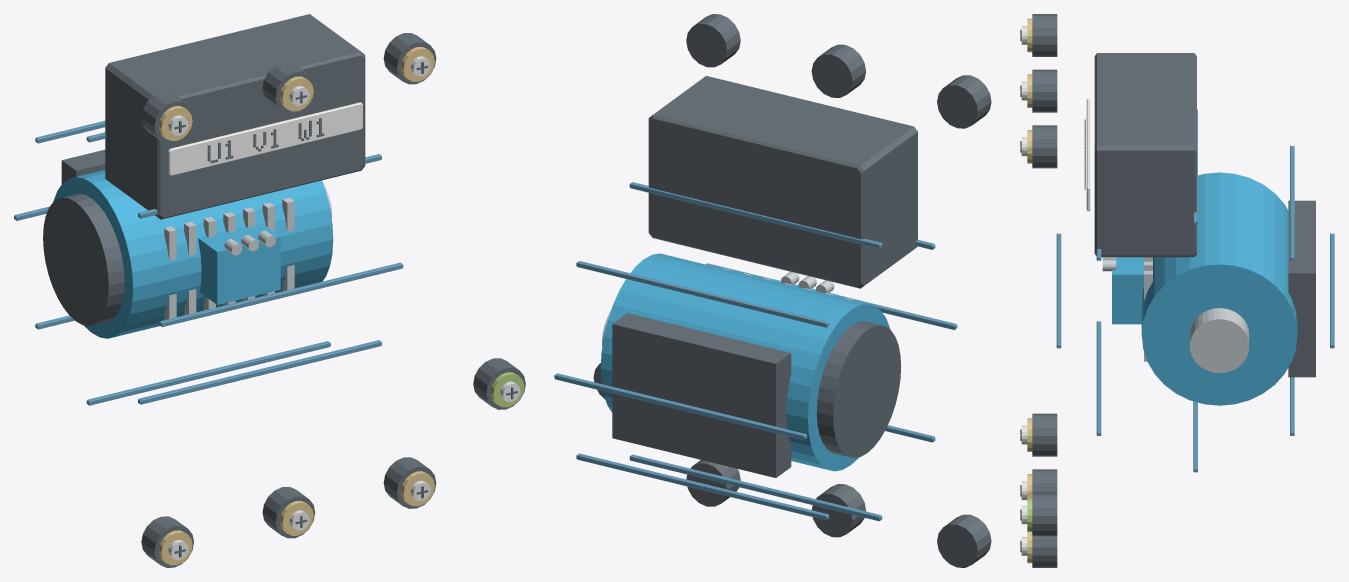
The model's file is motor6Terminal.glb.
3 renders of one model, left to right at view 1: azimuth 30°, elevation 25°; view 2: azimuth 150°, elevation 25°; view 3: azimuth 270°, elevation 25°, orthographic. The views are drawn at different scales.
Visible parts, largest first — view 1: motor6Terminal-preview; view 2: motor6Terminal-preview; view 3: motor6Terminal-preview.
Boxes of the visible parts, bbox=[...] form: motor6Terminal-preview: bbox=[14, 14, 525, 567]; motor6Terminal-preview: bbox=[554, 14, 991, 567]; motor6Terminal-preview: bbox=[1020, 14, 1334, 567].
Bounding box in the file's own units: 2.94 × 3.52 × 2.29.
